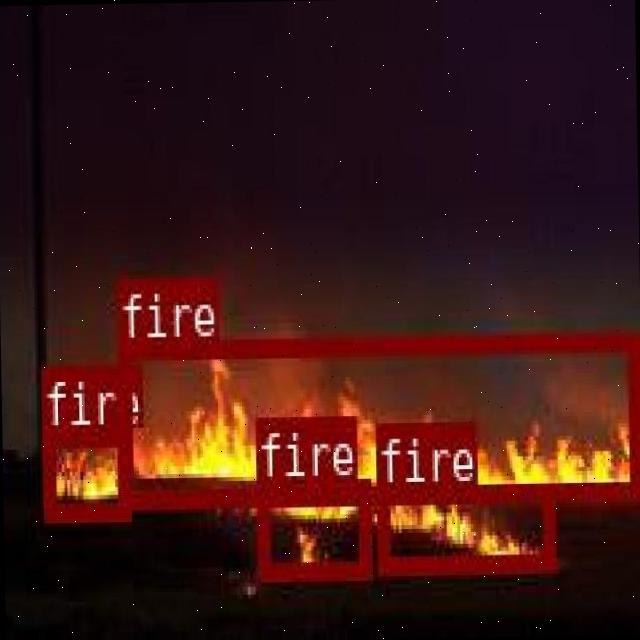fire: (116, 330, 638, 502), (374, 479, 554, 572), (254, 477, 368, 576), (40, 426, 128, 518)
